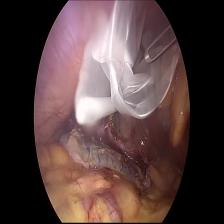Grasper: (143, 25, 178, 65)
Specimen Bag: (75, 0, 181, 128)
